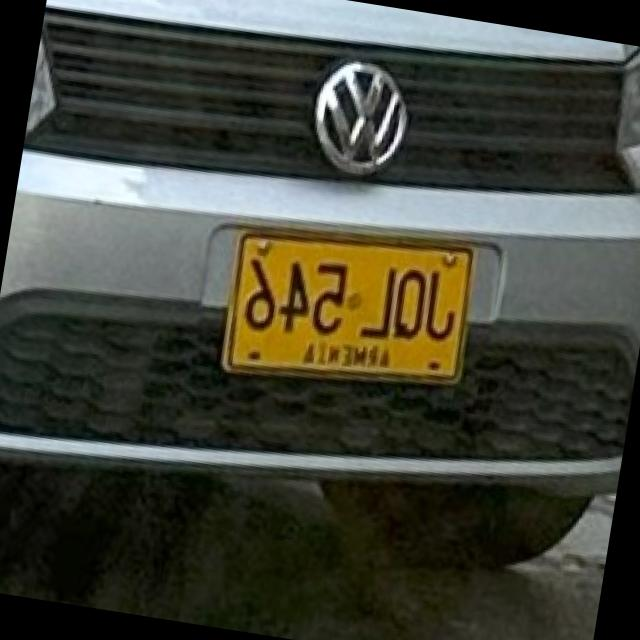number plate: (227, 231, 476, 379)
